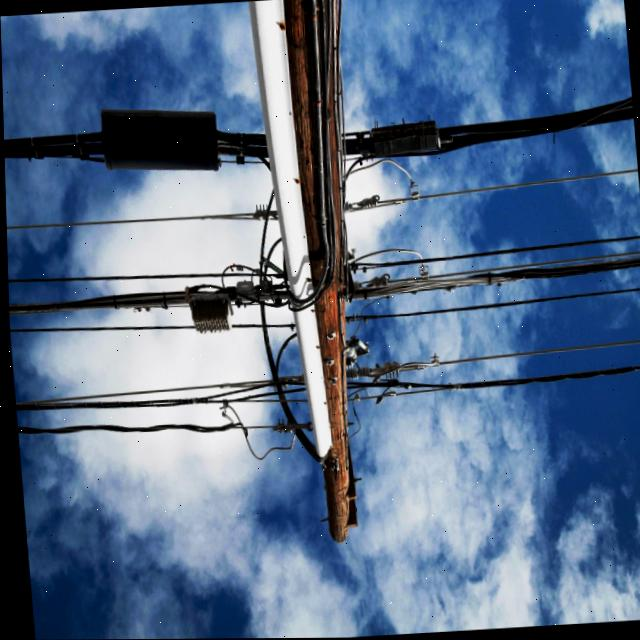poles: (249, 0, 355, 543)
wires: (5, 96, 640, 460), (3, 108, 272, 170)
